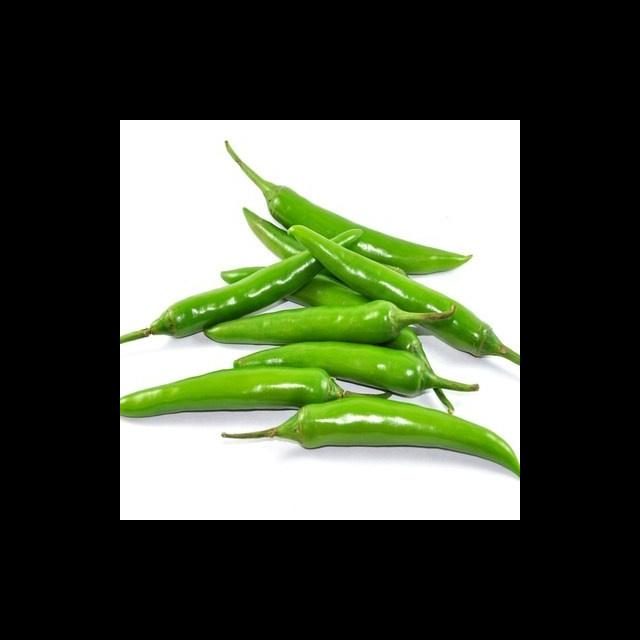chili_pepper: (226, 142, 472, 274), (290, 226, 520, 364), (222, 396, 520, 476), (120, 251, 323, 344), (234, 344, 480, 397), (120, 367, 345, 418), (205, 300, 452, 345), (334, 229, 363, 246)
